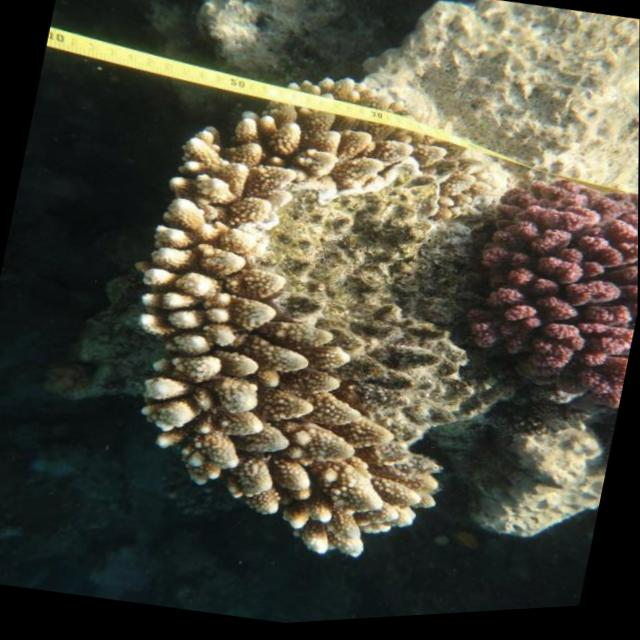Healthy Coral: (85, 32, 526, 606), (442, 163, 639, 427)
